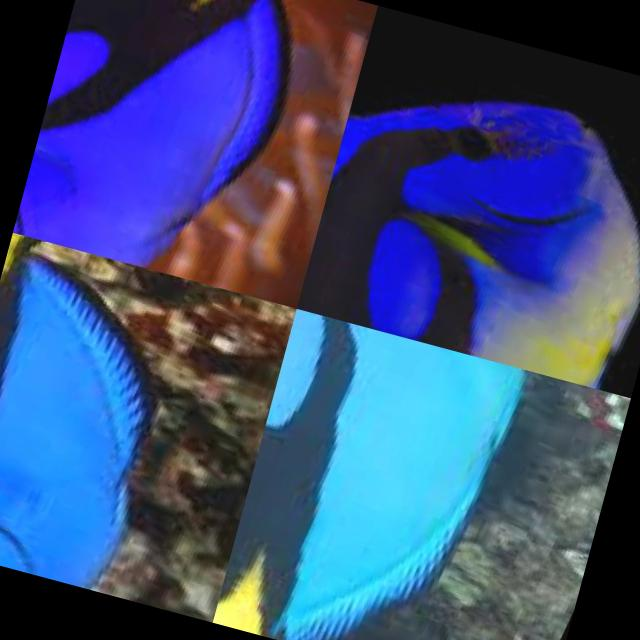BlueTang: (296, 56, 640, 393), (214, 307, 522, 640), (12, 0, 312, 290), (0, 231, 188, 593)
